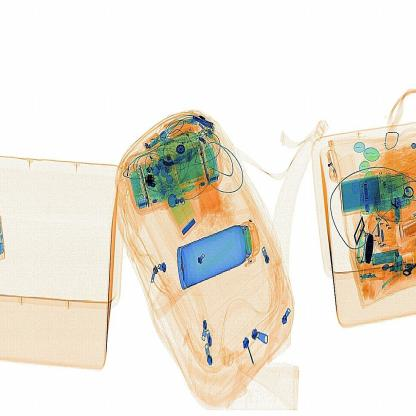scissors: (143, 172, 159, 192)
